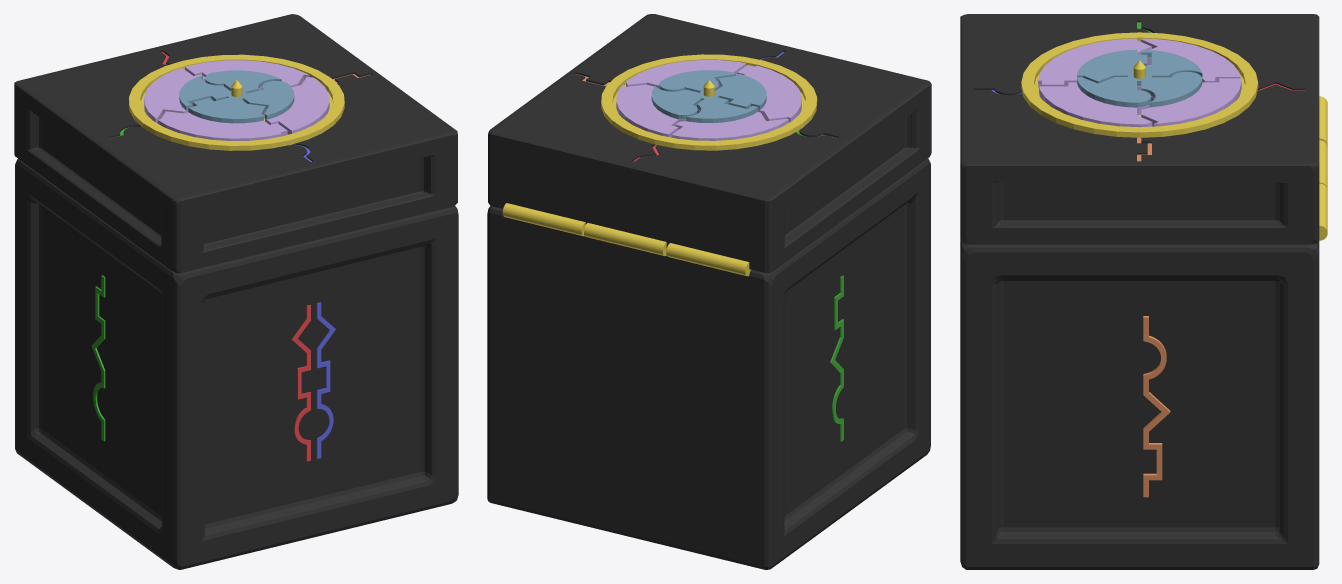
File: InvPuzzlebox.glb
3 renders of one model, left to right at view 1: azimuth 30°, elevation 25°; view 2: azimuth 150°, elevation 25°; view 3: azimuth 270°, elevation 25°, orthographic. The views are drawn at different scales.
Parts seen in each view (by area): view 1: Cube.001, lid, lower disk, upper disk, rim, Curve.024, Curve.021, Curve.028; view 2: Cube.001, lid, lower disk, upper disk, rim, Cylinder.017, hingle, Cylinder.018, Curve.028; view 3: Cube.001, lid, lower disk, upper disk, rim, Curve.027, Cylinder.018.
Boxes of the visible parts, x1=… form: Cube.001: x1=15, y1=159, x2=458, y2=569; lid: x1=14, y1=14, x2=457, y2=273; lower disk: x1=144, y1=60, x2=329, y2=140; upper disk: x1=179, y1=70, x2=294, y2=123; rim: x1=129, y1=54, x2=344, y2=150; Curve.024: x1=316, y1=302, x2=335, y2=458; Curve.021: x1=291, y1=305, x2=310, y2=461; Curve.028: x1=91, y1=275, x2=105, y2=441; Cube.001: x1=487, y1=158, x2=930, y2=569; lid: x1=488, y1=14, x2=931, y2=273; lower disk: x1=616, y1=60, x2=801, y2=140; upper disk: x1=651, y1=70, x2=766, y2=123; rim: x1=601, y1=54, x2=817, y2=150; Cylinder.017: x1=666, y1=243, x2=750, y2=276; hingle: x1=584, y1=223, x2=666, y2=256; Cylinder.018: x1=502, y1=203, x2=585, y2=236; Curve.028: x1=830, y1=275, x2=843, y2=441; Cube.001: x1=960, y1=241, x2=1319, y2=569; lid: x1=960, y1=14, x2=1319, y2=244; lower disk: x1=1038, y1=38, x2=1241, y2=127; upper disk: x1=1077, y1=49, x2=1202, y2=107; rim: x1=1021, y1=32, x2=1258, y2=137; Curve.027: x1=1143, y1=316, x2=1170, y2=497; Cylinder.018: x1=1319, y1=183, x2=1327, y2=240.
Size of the model in its own units: 2 by 2.68 by 2.05.
